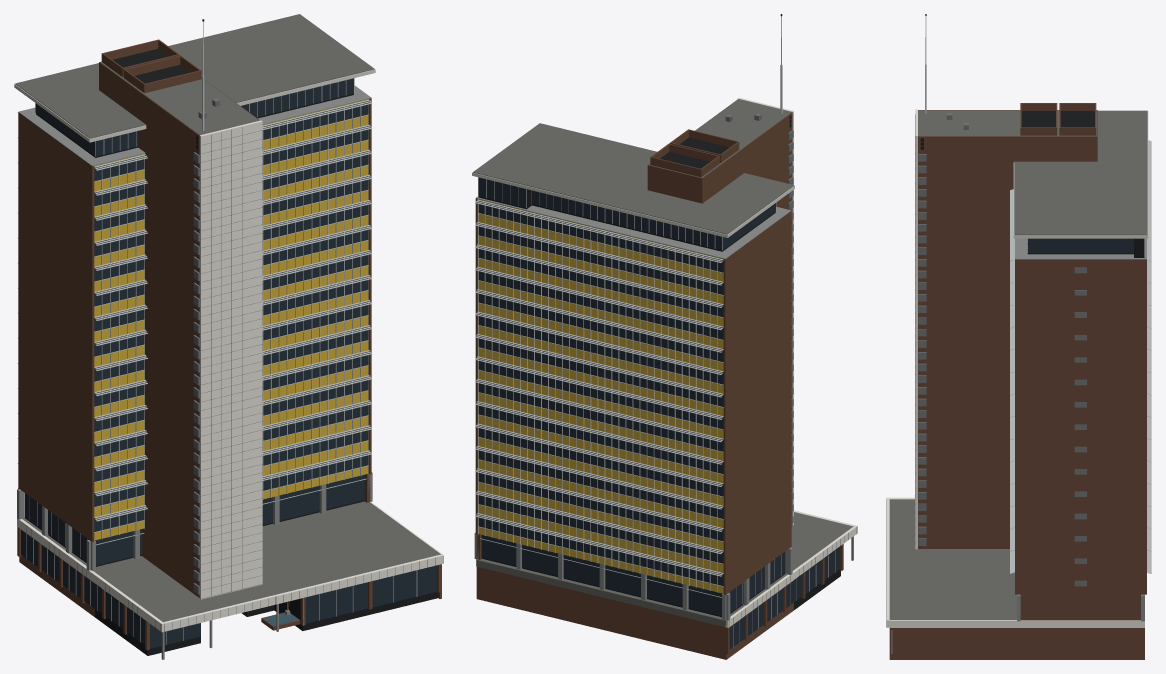
The model's file is tower-building.glb.
The picture shows the model from 3 angles, left to right: view 1: azimuth 30°, elevation 25°; view 2: azimuth 150°, elevation 25°; view 3: azimuth 270°, elevation 25°; orthographic projection. The views are drawn at different scales.
Visible parts, largest first — view 1: tower_brick, tower_glass, tower_marble, tower_roof, tower_alu, tower_enamel, tower_grey, tower_dark, tower_tile, tower_fascia; view 2: tower_glass, tower_brick, tower_alu, tower_enamel, tower_roof, tower_tile, tower_dark, tower_marble, tower_fascia, tower_grey; view 3: tower_brick, tower_roof, tower_grey, tower_alu, tower_marble, tower_glass, tower_dark, tower_tile, tower_fascia.
Boxes of the visible parts, <box> form: tower_brick: <box>17,39,441,650</box>; tower_glass: <box>21,78,437,648</box>; tower_marble: <box>17,120,443,632</box>; tower_roof: <box>15,14,439,622</box>; tower_alu: <box>17,21,417,644</box>; tower_enamel: <box>94,99,368,540</box>; tower_grey: <box>17,98,443,631</box>; tower_dark: <box>25,19,438,655</box>; tower_tile: <box>17,85,372,659</box>; tower_fascia: <box>14,69,375,142</box>; tower_glass: <box>478,177,840,649</box>; tower_brick: <box>475,99,843,659</box>; tower_alu: <box>475,16,835,647</box>; tower_enamel: <box>478,199,723,593</box>; tower_roof: <box>473,99,852,627</box>; tower_tile: <box>474,196,853,620</box>; tower_dark: <box>478,14,840,617</box>; tower_marble: <box>476,97,857,627</box>; tower_fascia: <box>472,172,794,237</box>; tower_grey: <box>725,113,856,627</box>; tower_brick: <box>889,103,1146,659</box>; tower_roof: <box>889,110,1147,619</box>; tower_grey: <box>886,113,1086,627</box>; tower_alu: <box>891,16,1151,653</box>; tower_marble: <box>886,109,1144,627</box>; tower_glass: <box>1027,238,1133,253</box>; tower_dark: <box>920,14,1144,257</box>; tower_tile: <box>1015,238,1146,621</box>; tower_fascia: <box>1013,111,1148,238</box>.
Bounding box in the file's own units: 43.7 × 90.21 × 39.37.
